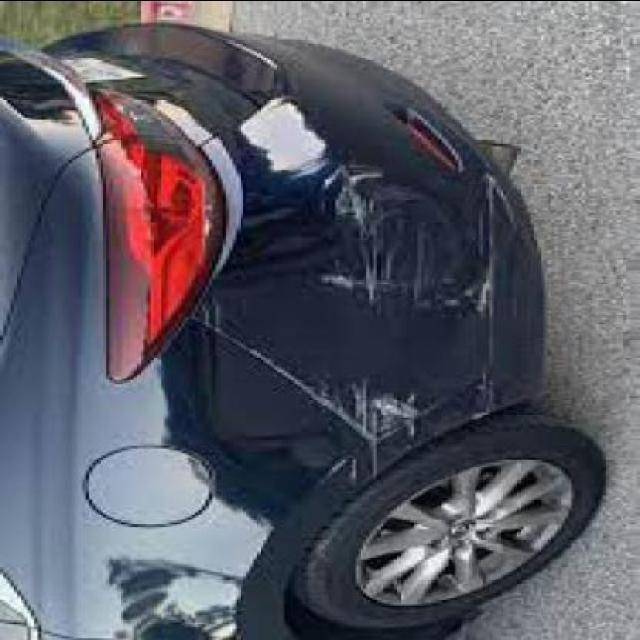rear-bumper-scratch: (312, 170, 513, 447)
